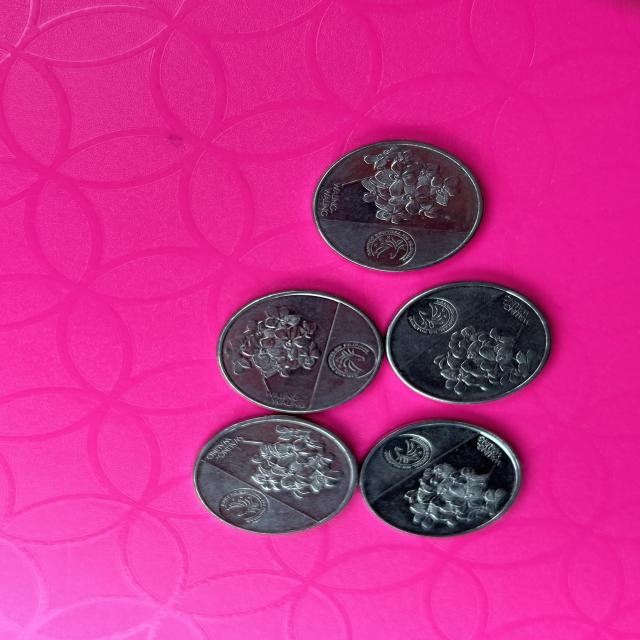1_New_Back: (349, 142, 468, 229), (224, 422, 347, 497), (220, 298, 318, 378), (430, 322, 540, 392), (395, 457, 503, 526)
